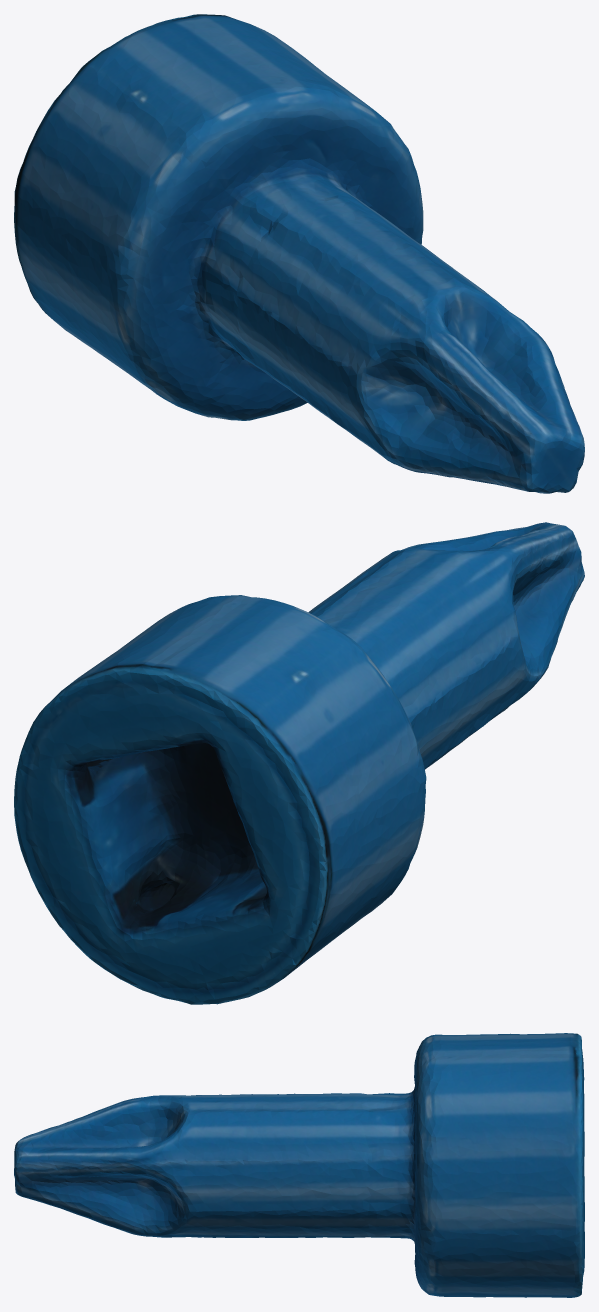
Rendered from d_toy_airplane.glb.
3 views of the same model, one above another, from view 1: azimuth 30°, elevation 25°; view 2: azimuth 150°, elevation 25°; view 3: azimuth 270°, elevation 25° (orthographic). The views are drawn at different scales.
Parts seen in each view (by area): view 1: textured.obj; view 2: textured.obj; view 3: textured.obj.
Part boxes in pixels (x1,y1,x2,y2): textured.obj: (14,14,584,493); textured.obj: (14,522,584,1004); textured.obj: (14,1033,584,1297).
Size of the model in its own units: 0.0306 by 0.0306 by 0.0664.
Materials: 1 (1 with a texture image).
